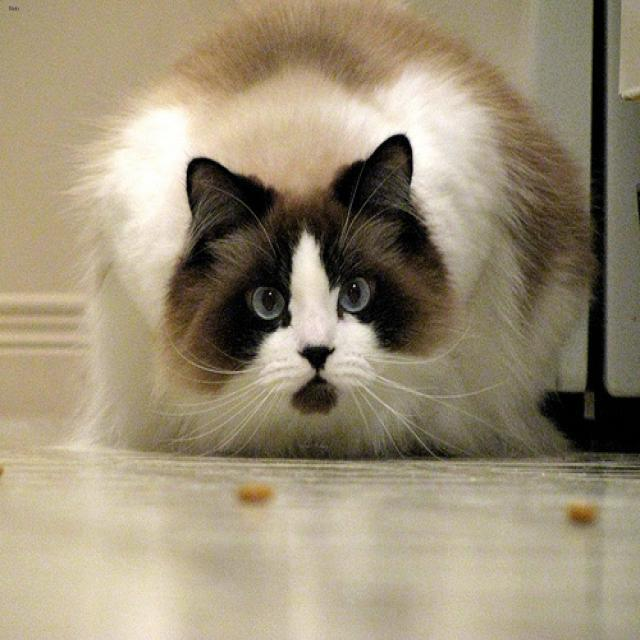Ragdoll: (154, 125, 468, 446)
